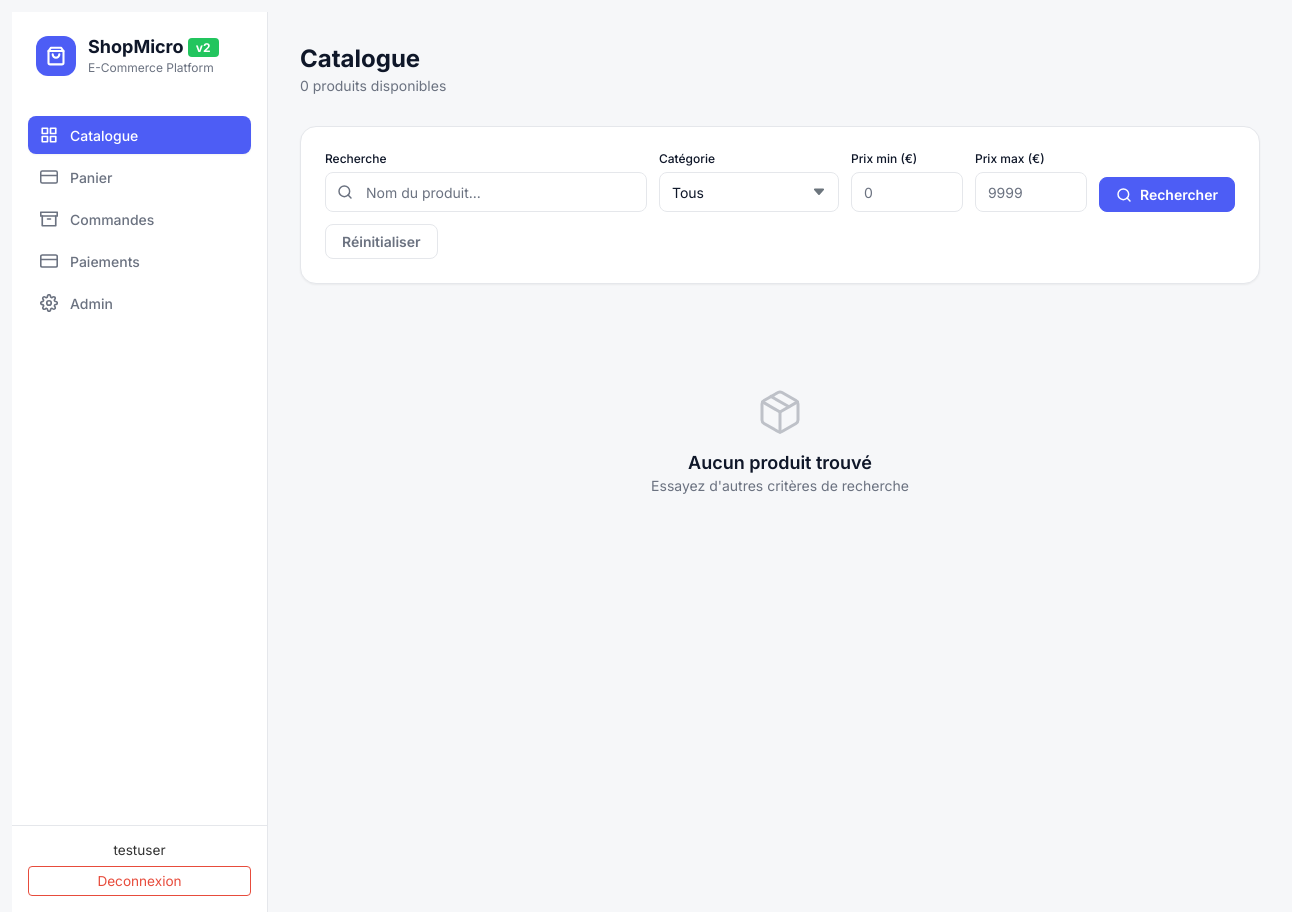
App › navigates to CartPage when Panier is clicked
Step 1. Click the button "Panier" → (140, 177), box x1=28 y1=158 x2=251 y2=196
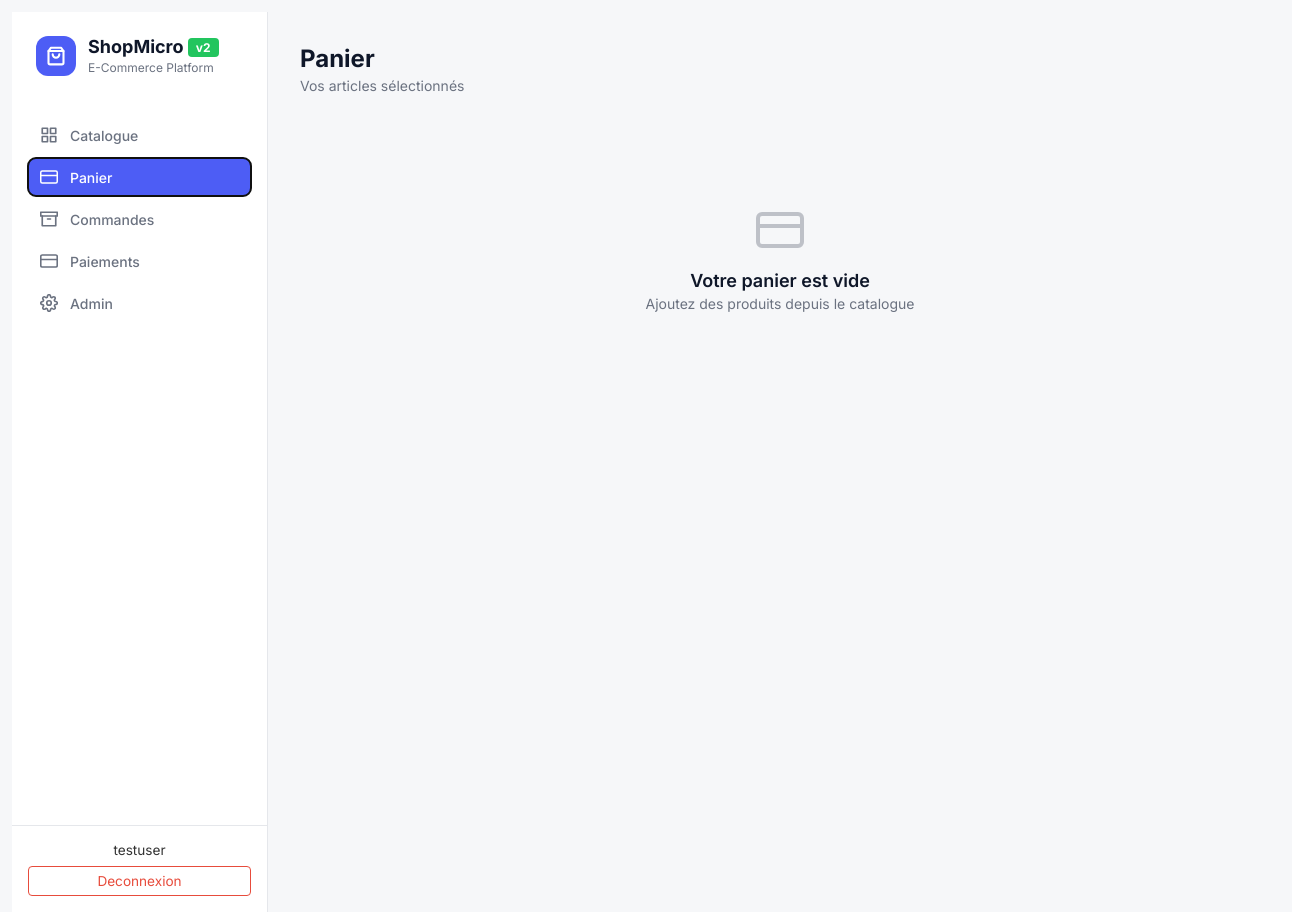
Now the heading "Votre panier est vide" is shown, box x1=690 y1=270 x2=870 y2=291
